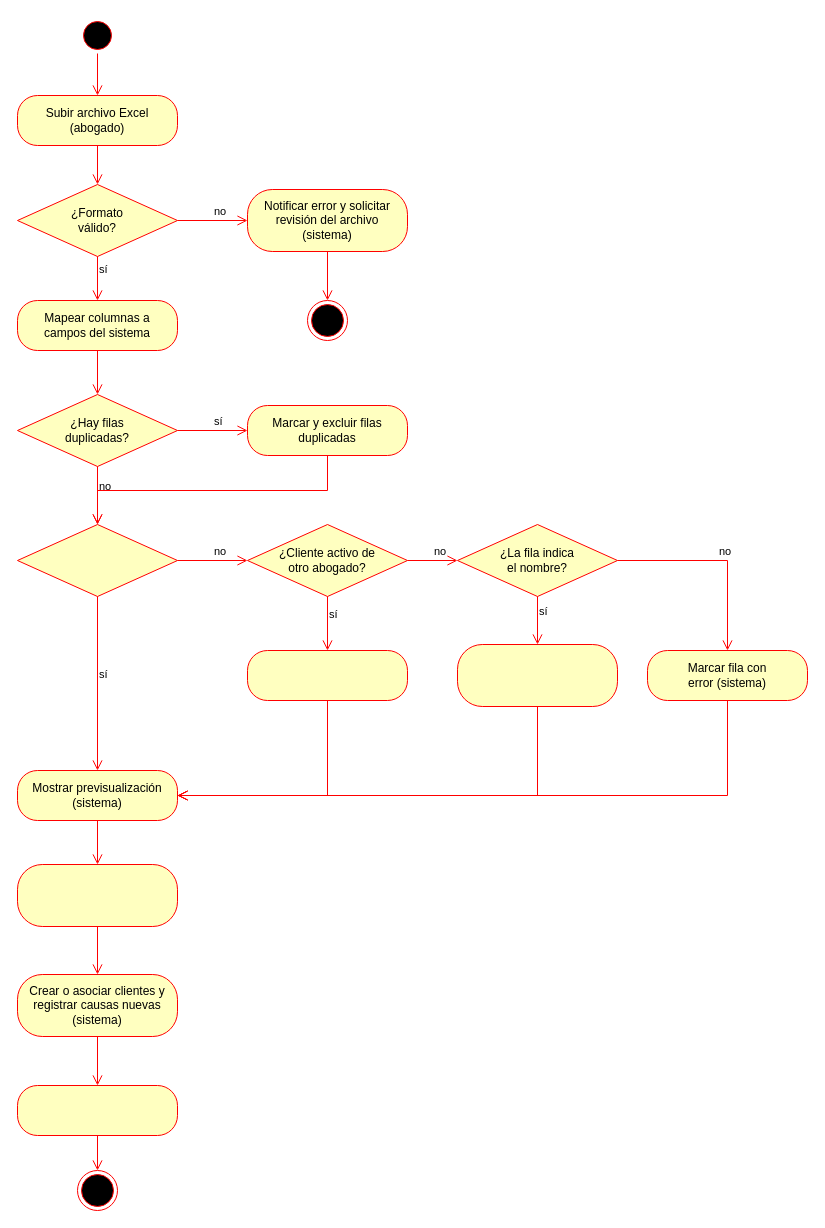
The diagram is 825 pixels wide and 1228 high, and some of its shapes have lost their labels. The box of each missing label's shape, as (x1, y1, x2, y2) in pixels:
Marcar para asociar el cliente (sistema): (246, 650, 408, 700)
Marcar para crear la cuenta del cliente (sistema): (456, 644, 618, 706)
Mostrar contraseñas temporales (sistema): (16, 1084, 178, 1136)
Revisar y confirmar importación (abogado): (16, 864, 178, 926)
¿Cliente de tu cartera?: (16, 524, 178, 596)
